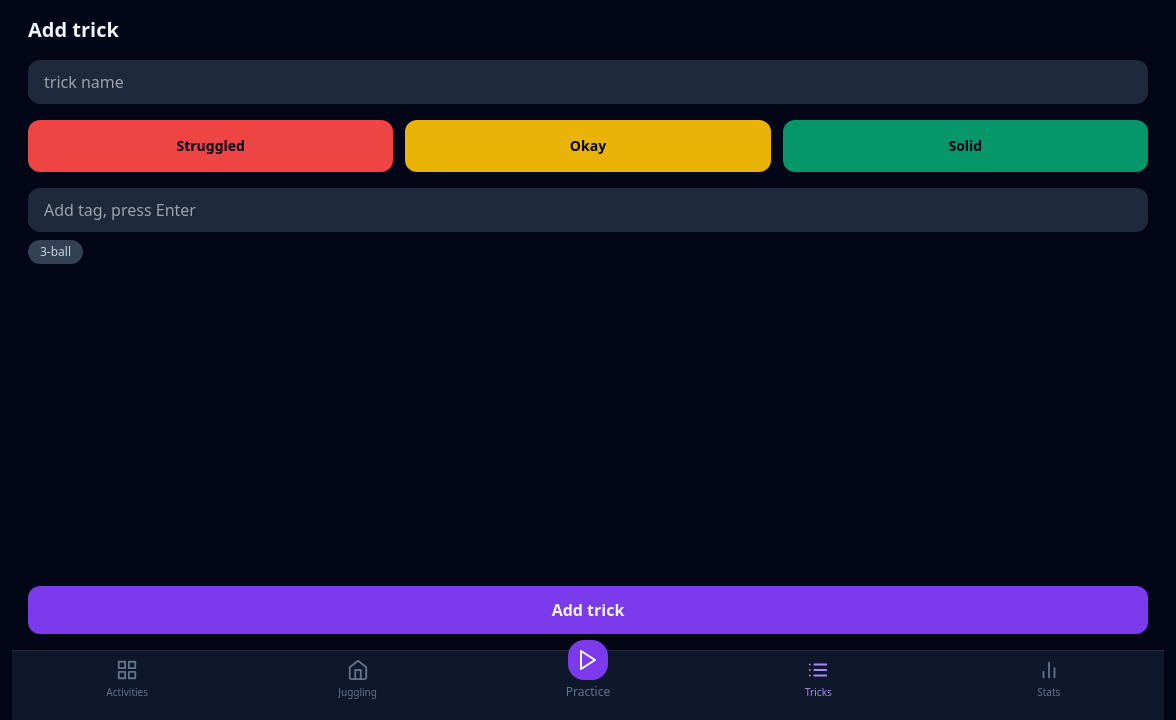
Test case: archiving › adding a name used by an archived item says to unarchive it
In the field with placeholder "trick name": x=588, y=82 x1=28 y1=60 x2=1148 y2=104, type "mills mess"
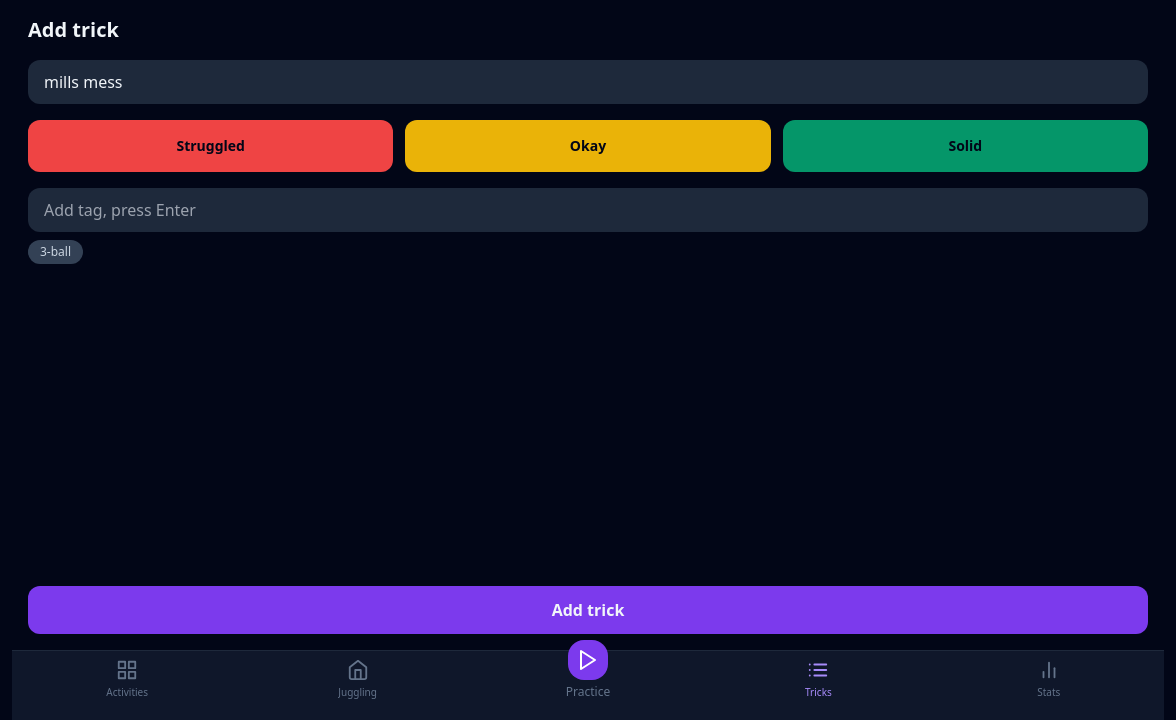
Click the button "Struggled": x=211, y=146 x1=28 y1=120 x2=393 y2=172
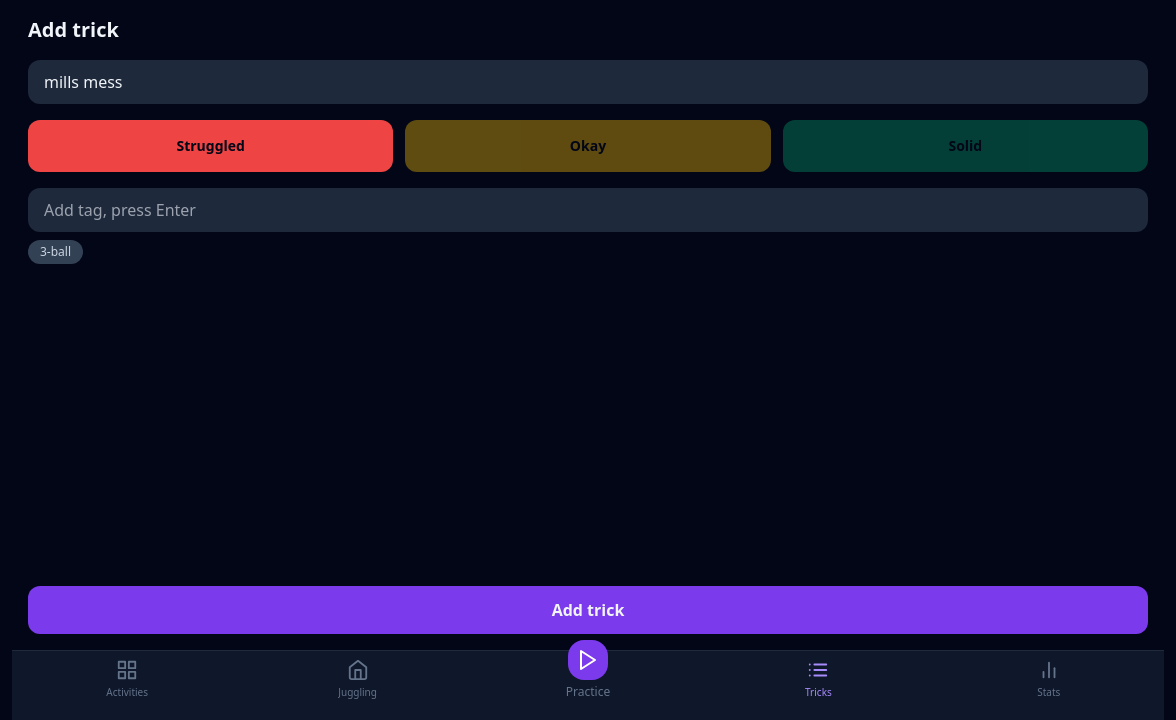
Click the button "Add trick": x=588, y=610 x1=28 y1=586 x2=1148 y2=634
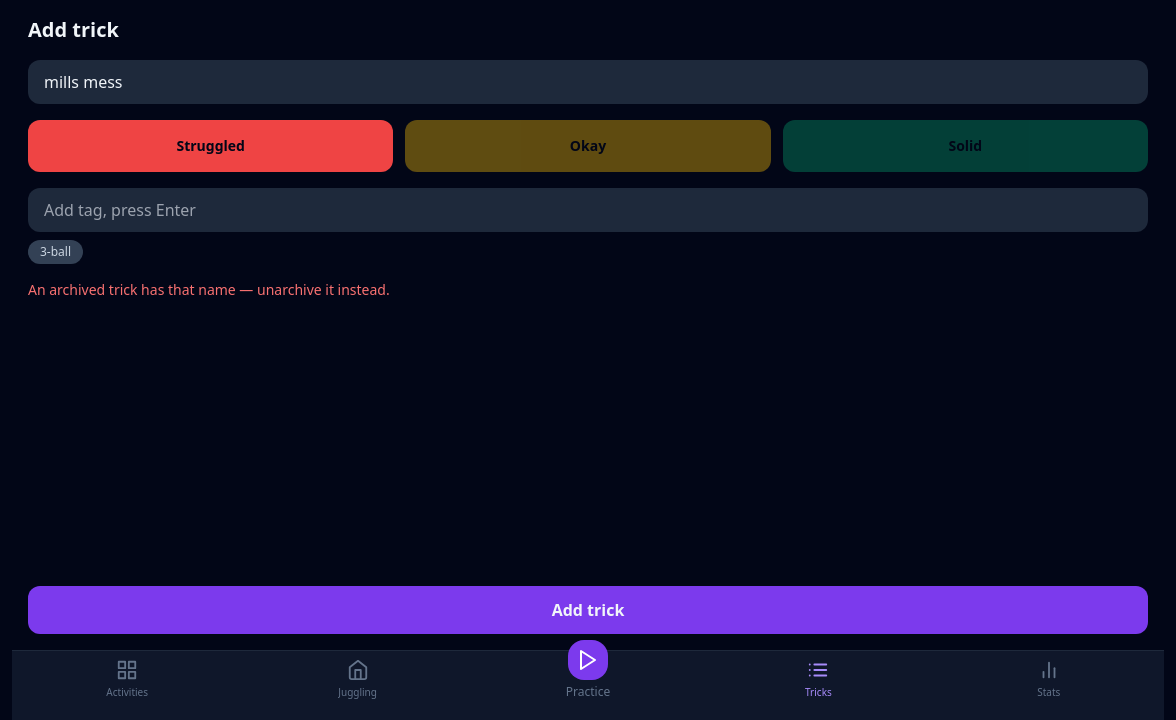
Now the text "An archived trick has that name — unarchive it instead." is shown, box x1=28 y1=280 x2=390 y2=299
